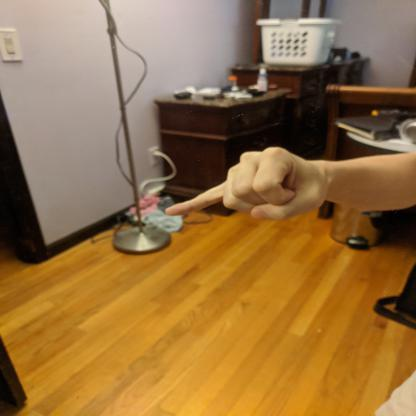J: (160, 143, 329, 227)
